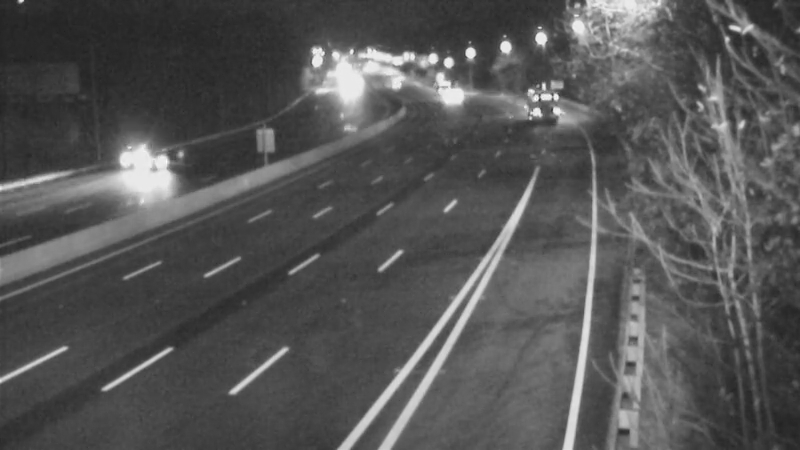vehicle: (88, 118, 168, 198), (111, 126, 191, 206), (419, 56, 469, 106), (426, 73, 476, 123), (507, 76, 557, 126)
